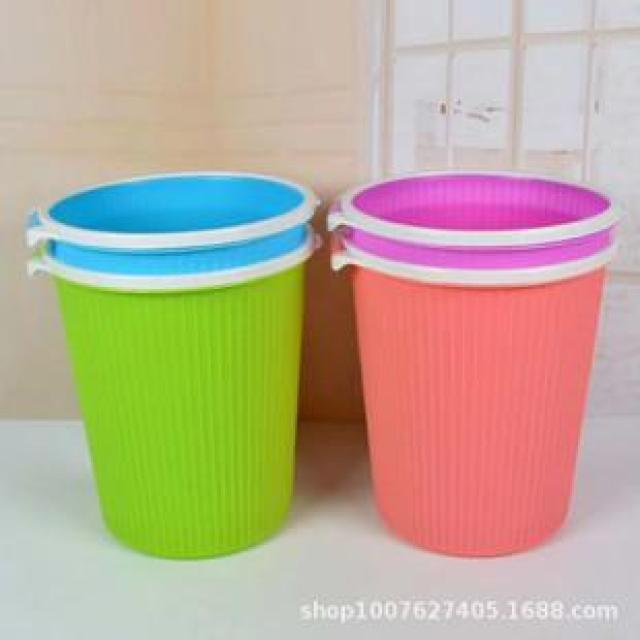dustbin: (25, 234, 326, 562), (327, 234, 623, 566)
